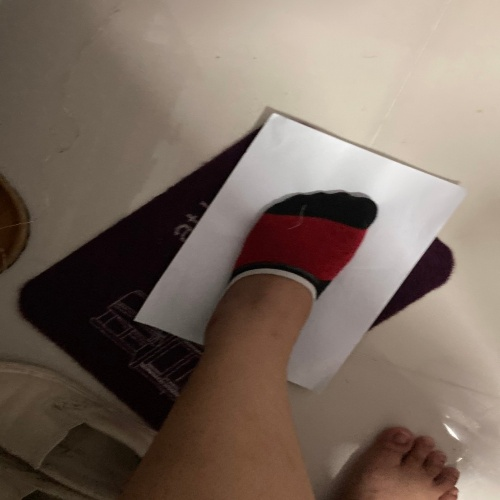Top_Foot: (126, 94, 477, 403)
